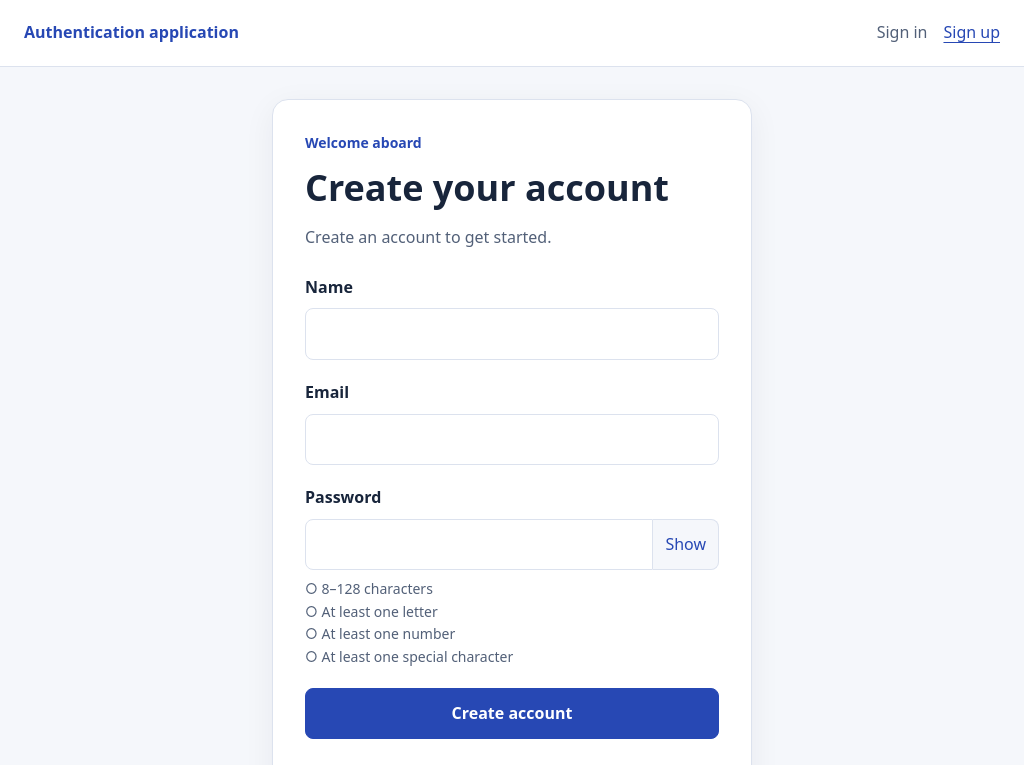
Test: isolates password guidance and toggles visibility with an accessible control
The width and height of the screenshot is (1024, 765).
Type "Password42!" into the password field labelled "Password" at (479, 544), box x1=305 y1=519 x2=653 y2=570
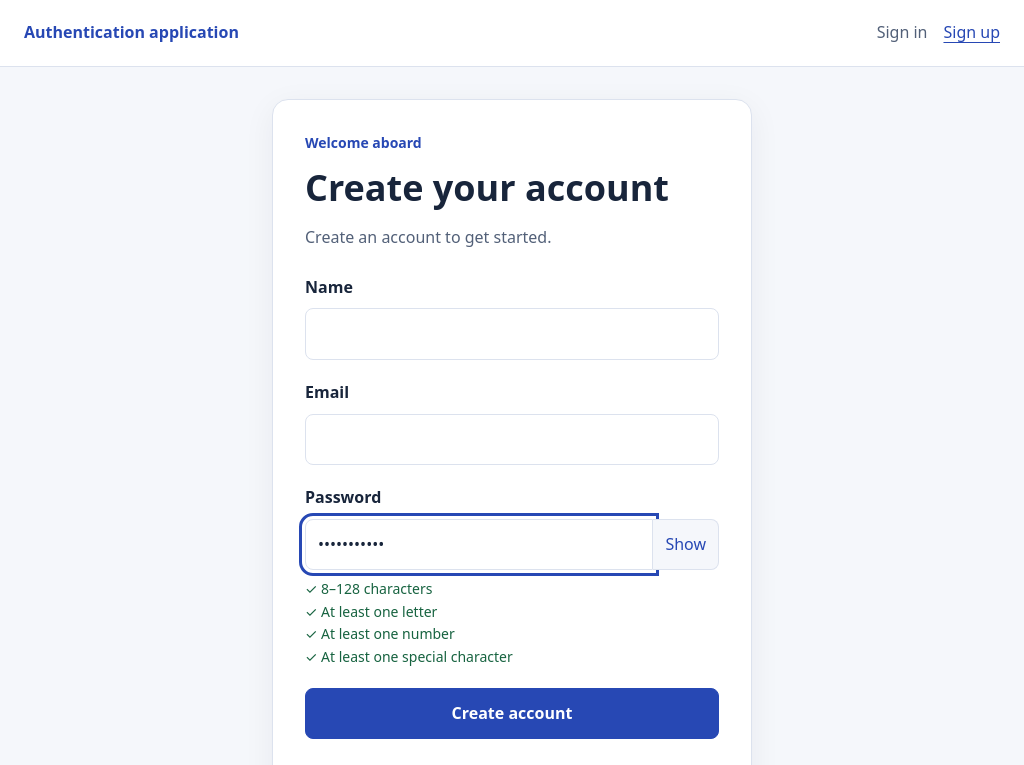
Check: the number of list items is 4, box x1=305 y1=578 x2=475 y2=598; x1=305 y1=601 x2=480 y2=621; x1=305 y1=623 x2=498 y2=643; x1=305 y1=646 x2=556 y2=666
Click the button with aria-label "Show password" at (686, 544), box x1=653 y1=519 x2=719 y2=570
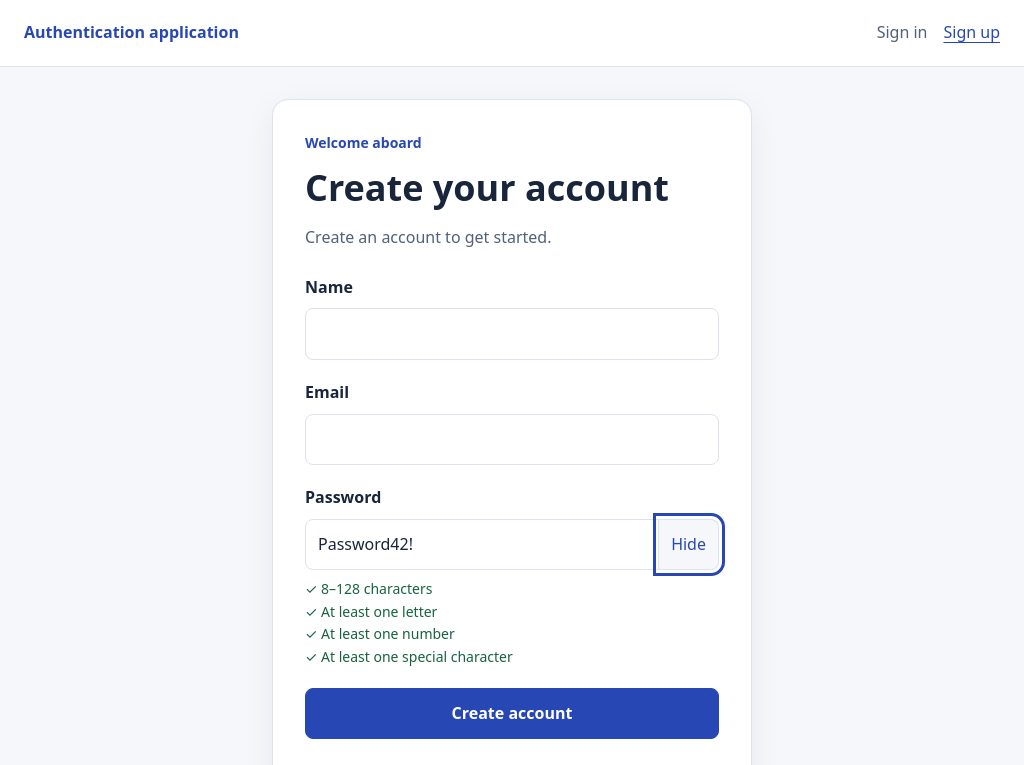
Check: the field labelled "Password" shows its text, box x1=305 y1=519 x2=659 y2=570
Click the button with aria-label "Hide password" at (689, 544), box x1=659 y1=519 x2=719 y2=570
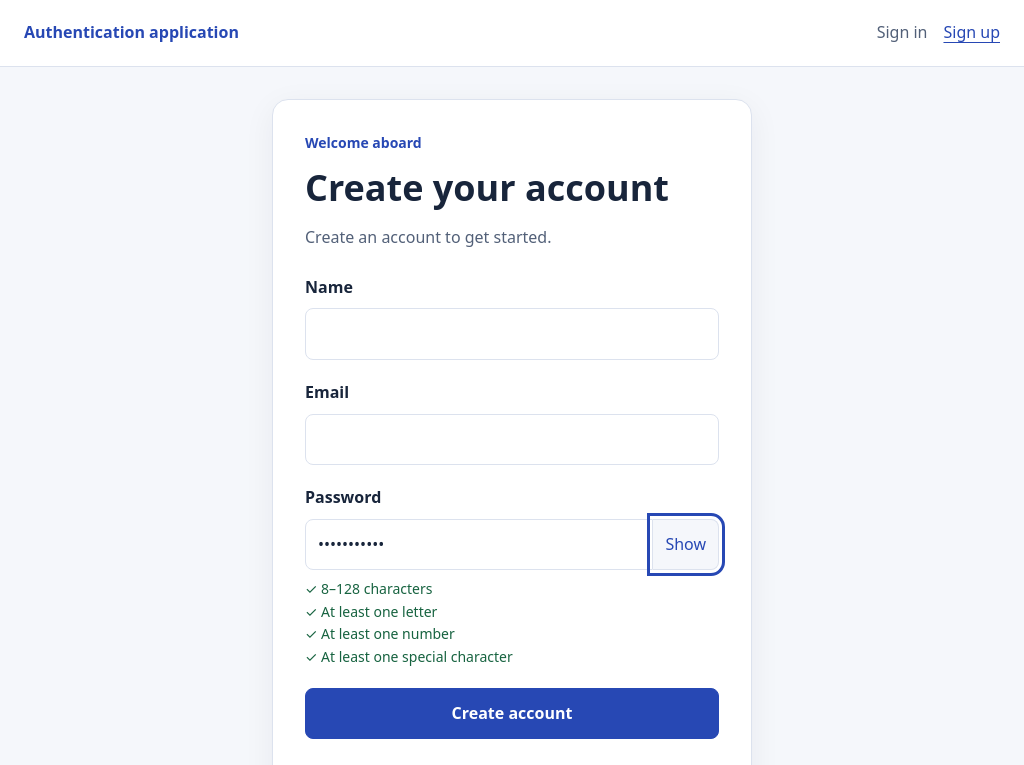
Check: the password field labelled "Password" hides its text, box x1=305 y1=519 x2=653 y2=570
